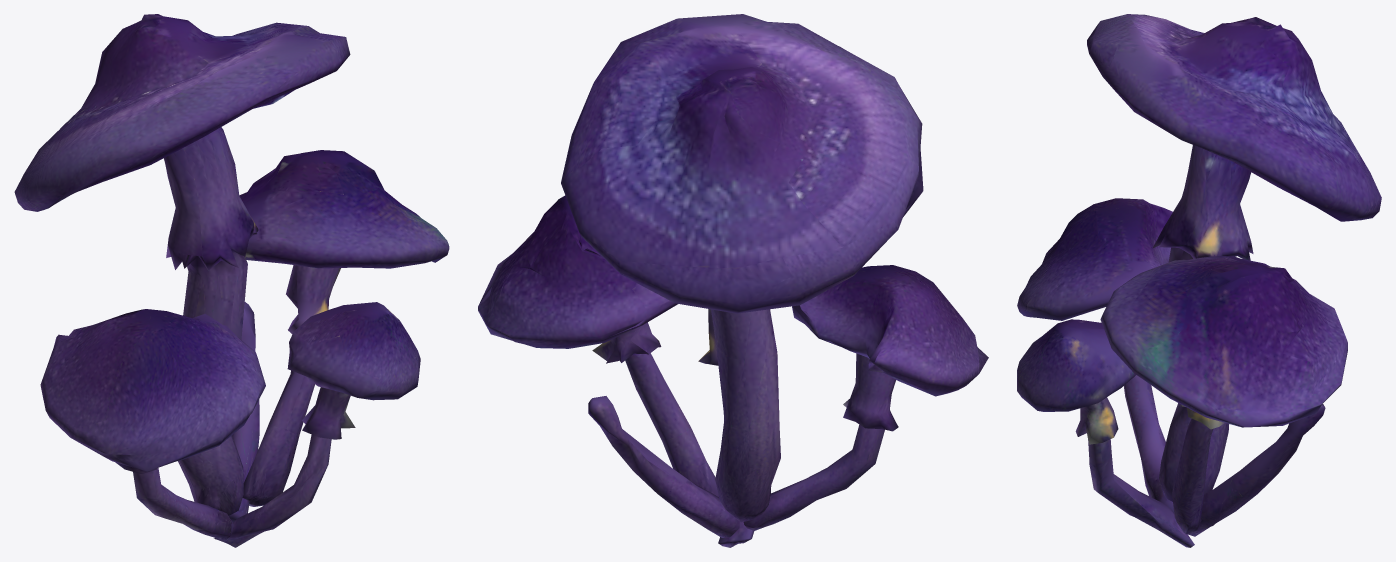
The model's file is fungus-violet-cluster.gltf.
3 views of the same model, side by side, from view 1: azimuth 30°, elevation 25°; view 2: azimuth 150°, elevation 25°; view 3: azimuth 270°, elevation 25° (orthographic).
Parts seen in each view (by area): view 1: fungus-violet-cluster; view 2: fungus-violet-cluster; view 3: fungus-violet-cluster.
Part boxes in pixels (x1=…): fungus-violet-cluster: x1=14, y1=14, x2=449, y2=547; fungus-violet-cluster: x1=478, y1=14, x2=988, y2=547; fungus-violet-cluster: x1=1017, y1=14, x2=1381, y2=547.
Bounding box in the file's own units: 0.5347 × 0.603 × 0.3955.
1 material, 1 textured.
